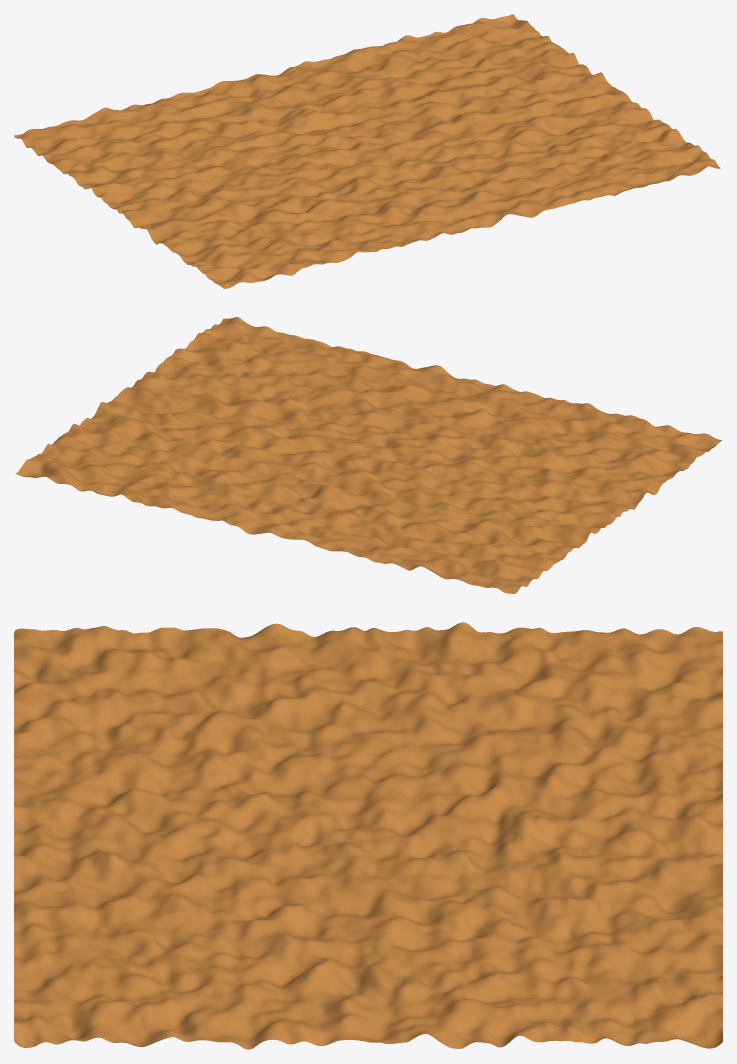
The model's file is skin.gltf.
3 views of the same model, one above another, from view 1: azimuth 30°, elevation 25°; view 2: azimuth 150°, elevation 25°; view 3: azimuth 270°, elevation 25° (orthographic). The views are drawn at different scales.
Parts seen in each view (by area): view 1: Plane; view 2: Plane; view 3: Plane.
Part boxes in pixels (bbox=[...]): Plane: bbox=[14, 14, 720, 288]; Plane: bbox=[15, 317, 722, 593]; Plane: bbox=[14, 622, 722, 1049].
Bounding box in the file's own units: 15.32 × 0.3919 × 11.14.
